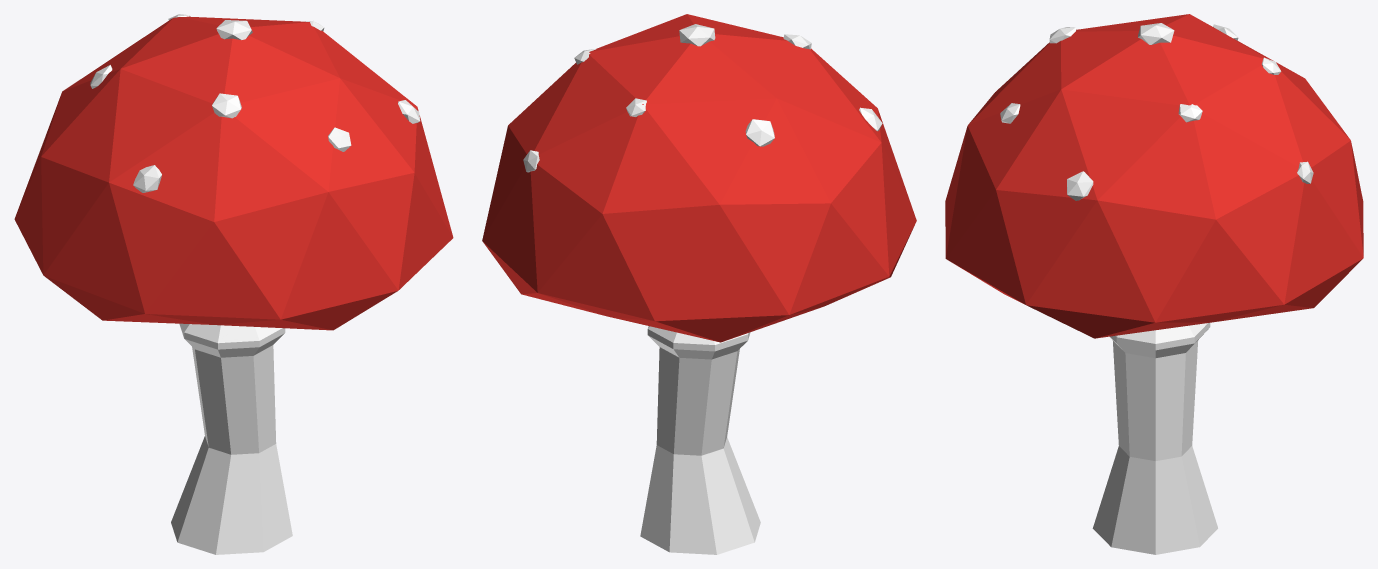
File: mushroom#001.glb
3 renders of one model, left to right at view 1: azimuth 30°, elevation 25°; view 2: azimuth 150°, elevation 25°; view 3: azimuth 270°, elevation 25°, orthographic.
Visible parts, largest first — view 1: Mushroom5_1; view 2: Mushroom5_1; view 3: Mushroom5_1.
Part boxes in pixels (x1,y1,x2,y2): Mushroom5_1: (14,14,453,554); Mushroom5_1: (482,14,916,554); Mushroom5_1: (945,14,1363,554).
Bounding box in the file's own units: 0.8647 × 1.1 × 0.8235.
